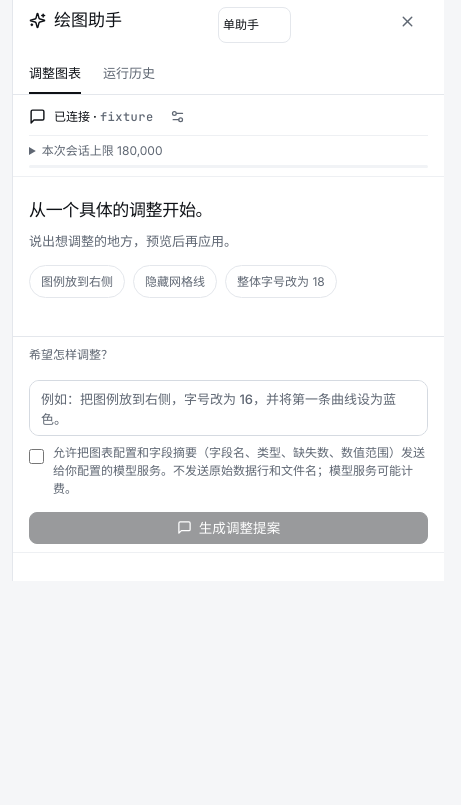
keeps the reconnect entry when the start failure is an offline ApiError
The width and height of the screenshot is (461, 805).
Check: the text "fixture" is shown, box [100,109,154,125]
Type "字号改为18" into the text box labelled "希望怎样调整？".
click(228, 408); type("字号改为18")  # box [29,380,428,436]
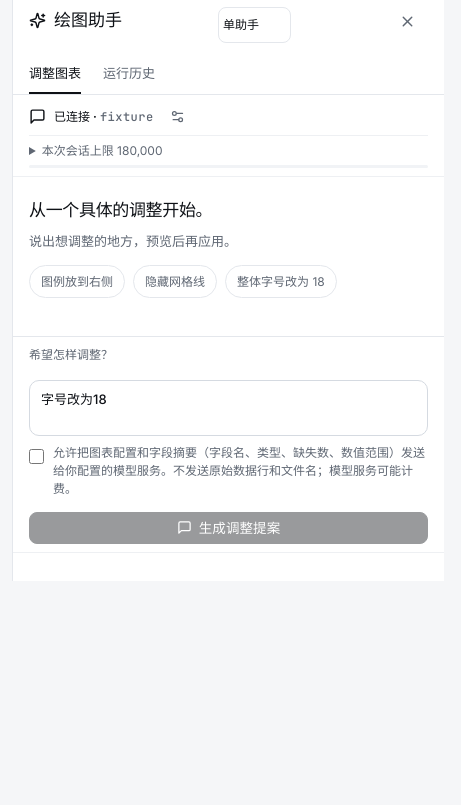
Click the checkbox labelled "允许把图表配置和字段摘要（字段名、类型、缺失数、数值范围）发送给你配置的模型服务。不发送原始数据行和文件名；模型服务可能计费。".
click(36, 456)  # box [29,449,44,464]
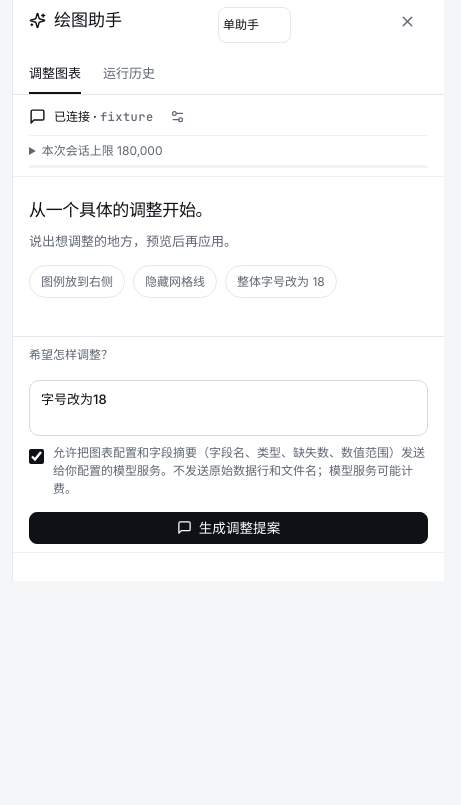
Click the button "生成调整提案".
click(228, 528)  # box [29,512,428,544]
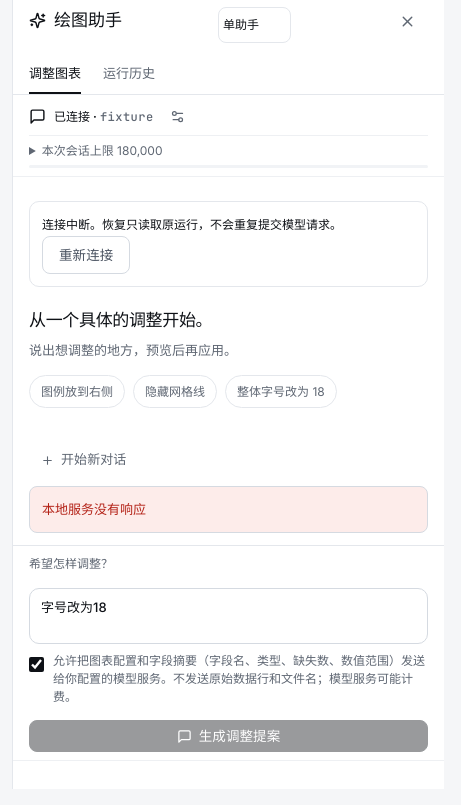
Click the button "重新连接".
click(86, 255)  # box [42,236,130,274]
(page scrolled)
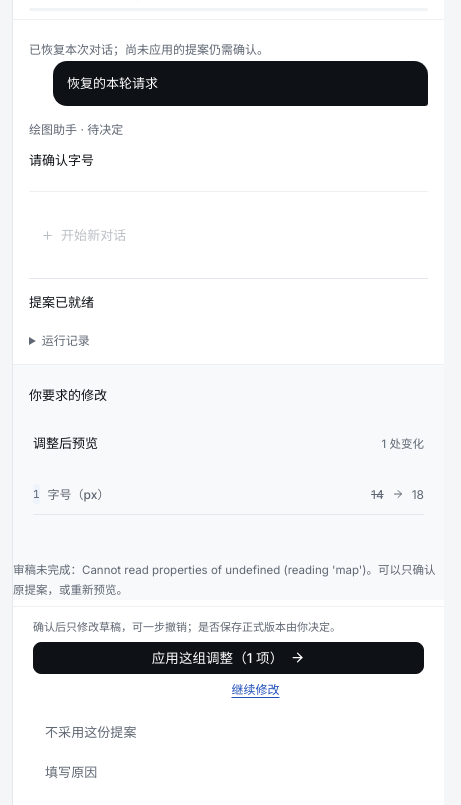
Check: the text "已恢复本次对话；尚未应用的提案仍需确认。" is shown, box [29,42,269,57]
Check: the button "应用这组调整（1 项）" is enabled, box [33,642,424,674]
